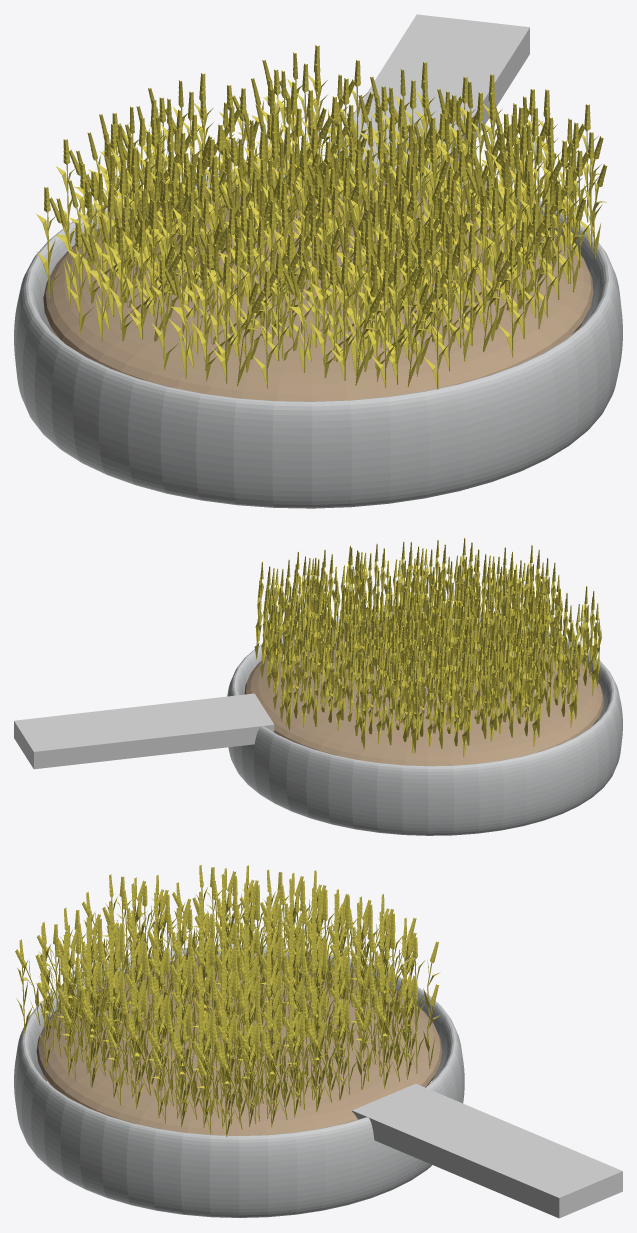
The model's file is ExquisiteJofo4.glb.
3 views of the same model, one above another, from view 1: azimuth 30°, elevation 25°; view 2: azimuth 150°, elevation 25°; view 3: azimuth 270°, elevation 25° (orthographic). The views are drawn at different scales.
Visible parts, largest first — view 1: Mesh_Mesh_head_geo.001_lambert2SG.001; view 2: Mesh_Mesh_head_geo.001_lambert2SG.001; view 3: Mesh_Mesh_head_geo.001_lambert2SG.001.
Part boxes in pixels (x1,y1,x2,y2): Mesh_Mesh_head_geo.001_lambert2SG.001: (14,14,622,508); Mesh_Mesh_head_geo.001_lambert2SG.001: (14,537,622,835); Mesh_Mesh_head_geo.001_lambert2SG.001: (14,865,622,1218).
Size of the model in its own units: 0.027 by 0.009 by 0.027.
